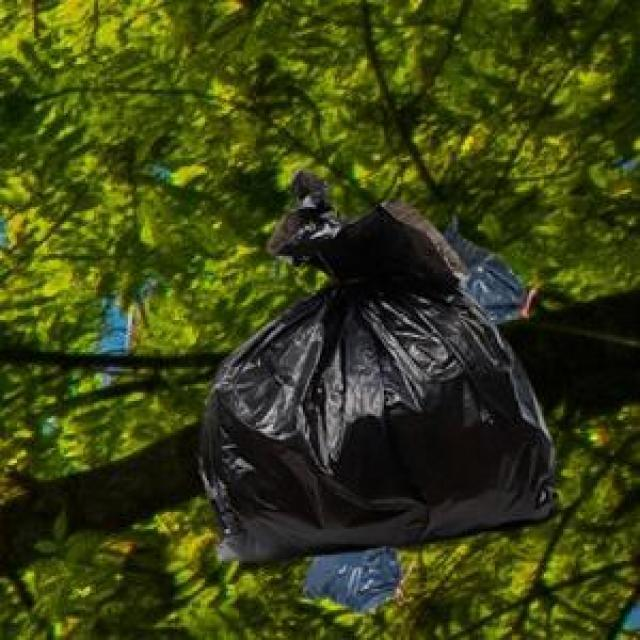Vinyl: (201, 171, 552, 611)
